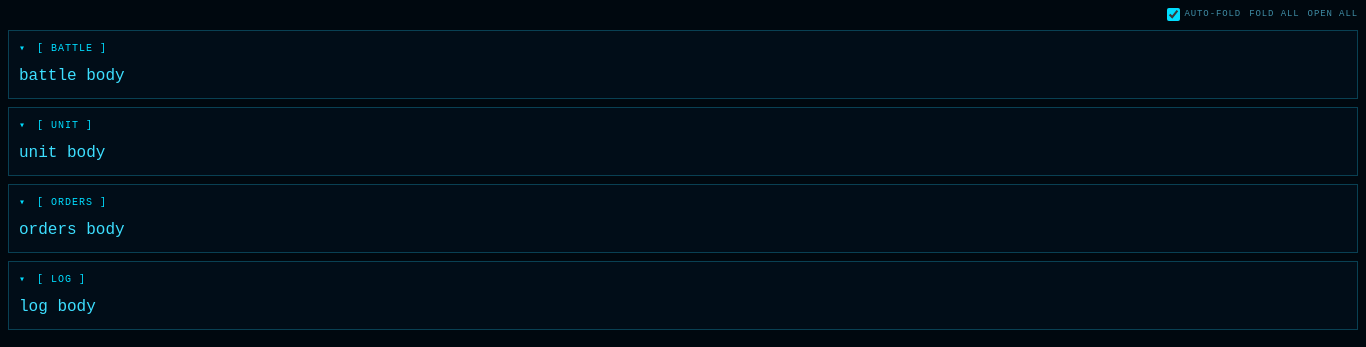
PanelStack › collapse button hides and shows a panel body
Click the button with aria-label "collapse unit" at (56, 125), box [19,118,93,132]
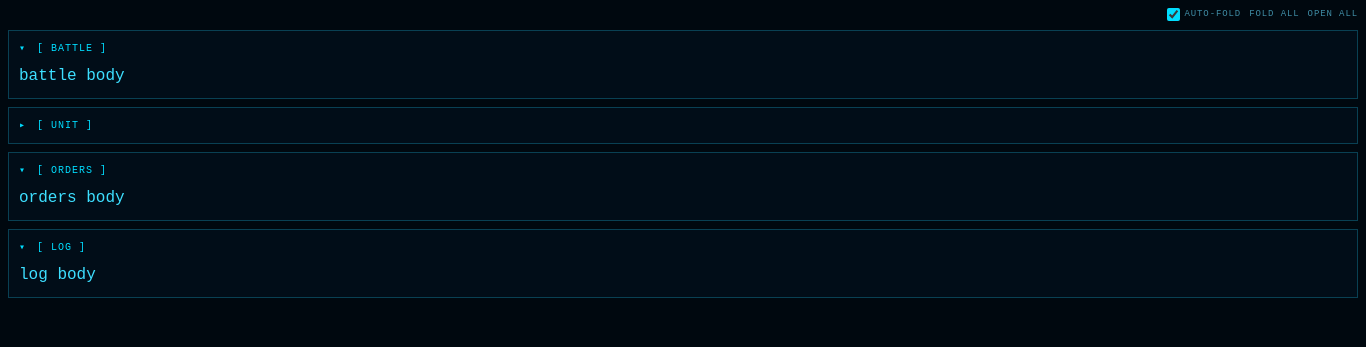
Now the text "unit body" is gone
Click the button with aria-label "expand unit" at (56, 125), box [19,118,93,132]
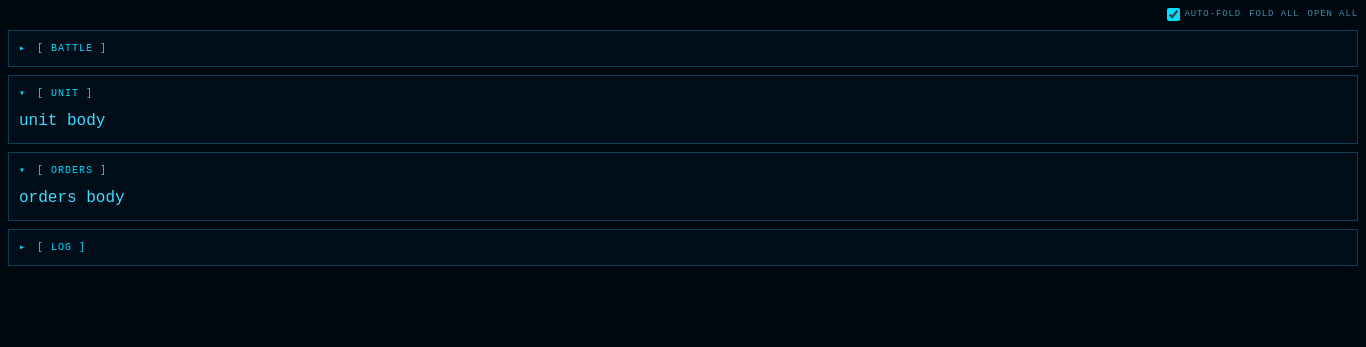
Now the text "unit body" is shown, box [19,112,105,130]
